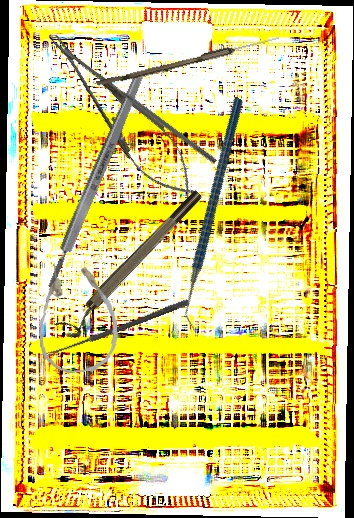Cannula: (33, 258, 121, 376)
Chopper: (116, 96, 316, 333)
Fixation Ring: (55, 187, 211, 343)
Needle Holder: (35, 20, 211, 211)
Pusher: (101, 74, 219, 165)
Scalpel Handle: (43, 71, 147, 290)
Surgical Spoon: (96, 32, 280, 91), (45, 298, 190, 359)
